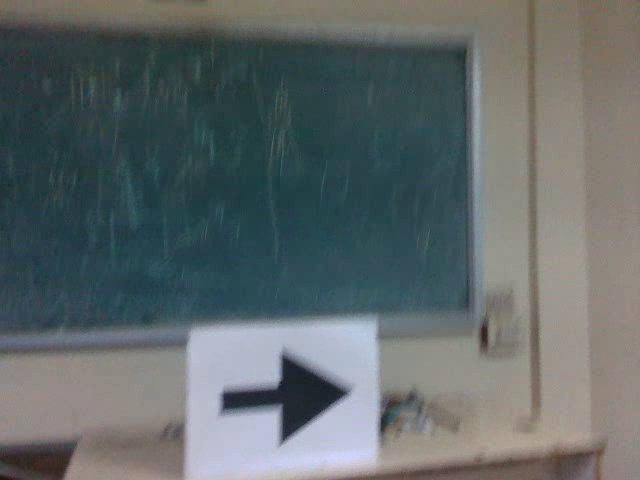Right: (215, 346, 356, 449)
